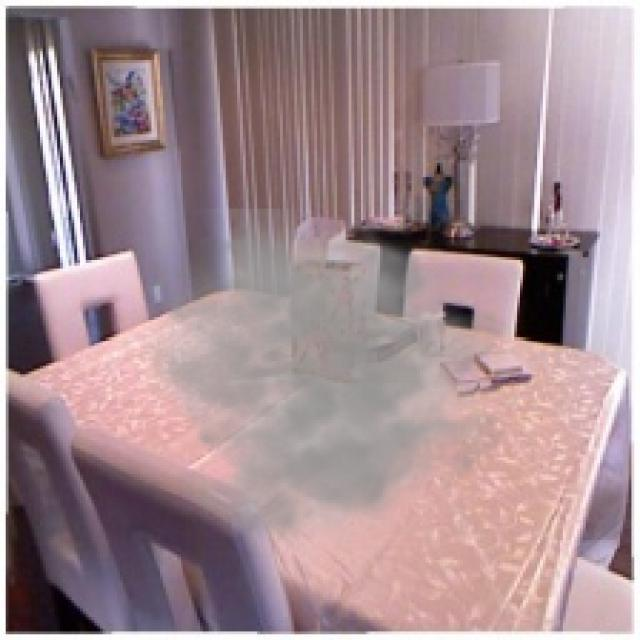Smoke: (137, 208, 512, 572)
